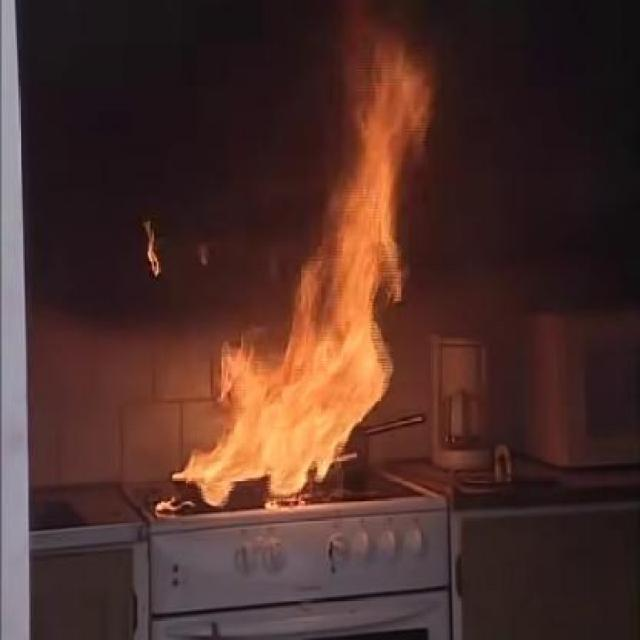fire: (196, 39, 418, 488)
